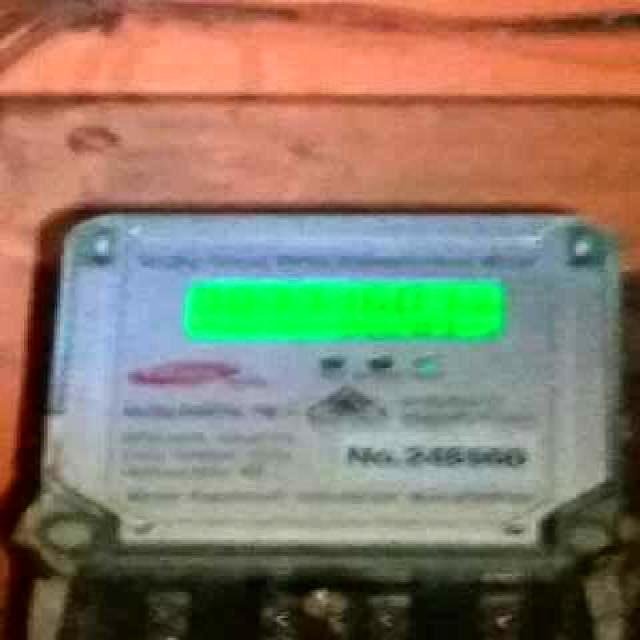LCD: (181, 269, 515, 349)
